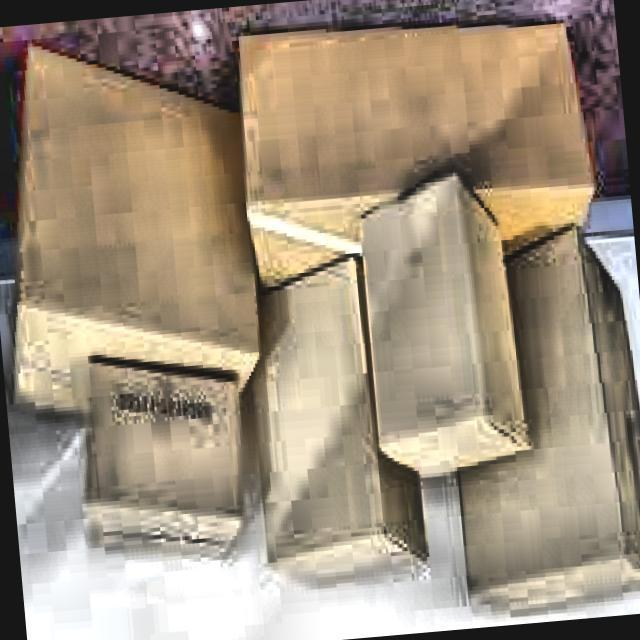cardboard: (228, 7, 602, 300), (0, 29, 268, 430), (434, 221, 640, 625), (236, 253, 428, 597), (353, 168, 533, 485), (67, 350, 253, 575)
